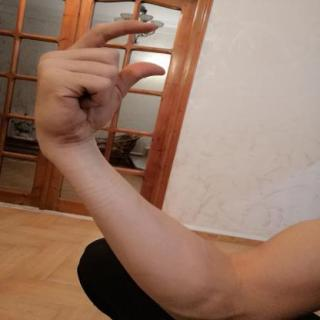DELL: (22, 15, 173, 156)
